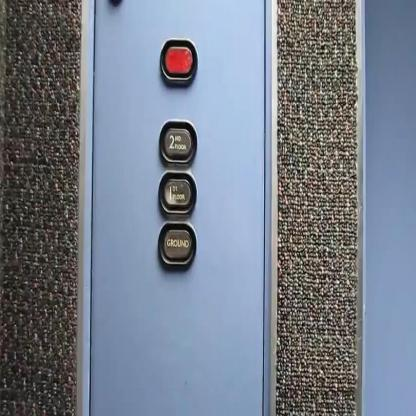1: (157, 167, 197, 215)
2: (156, 116, 198, 166)
empty: (158, 35, 198, 85)
text_GROUND: (157, 220, 198, 270)
